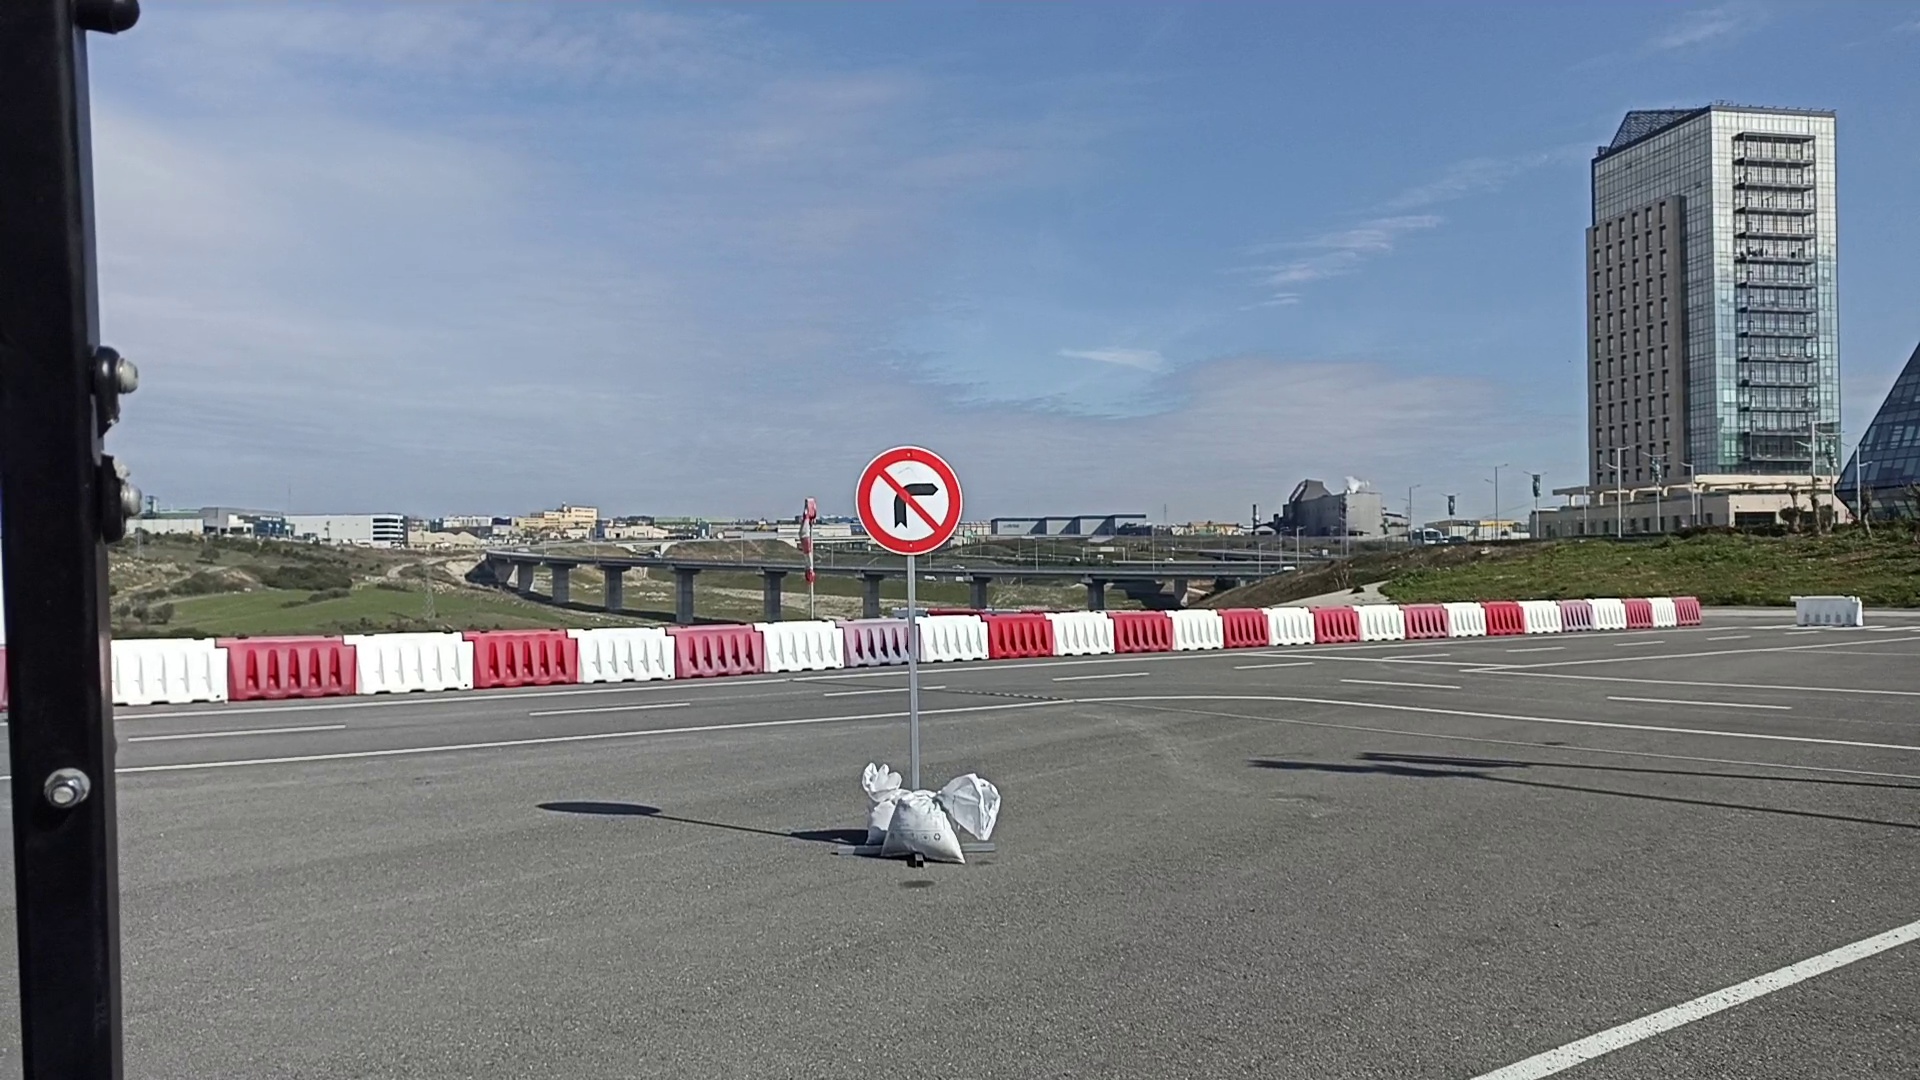noleftturn: (853, 443, 965, 556)
